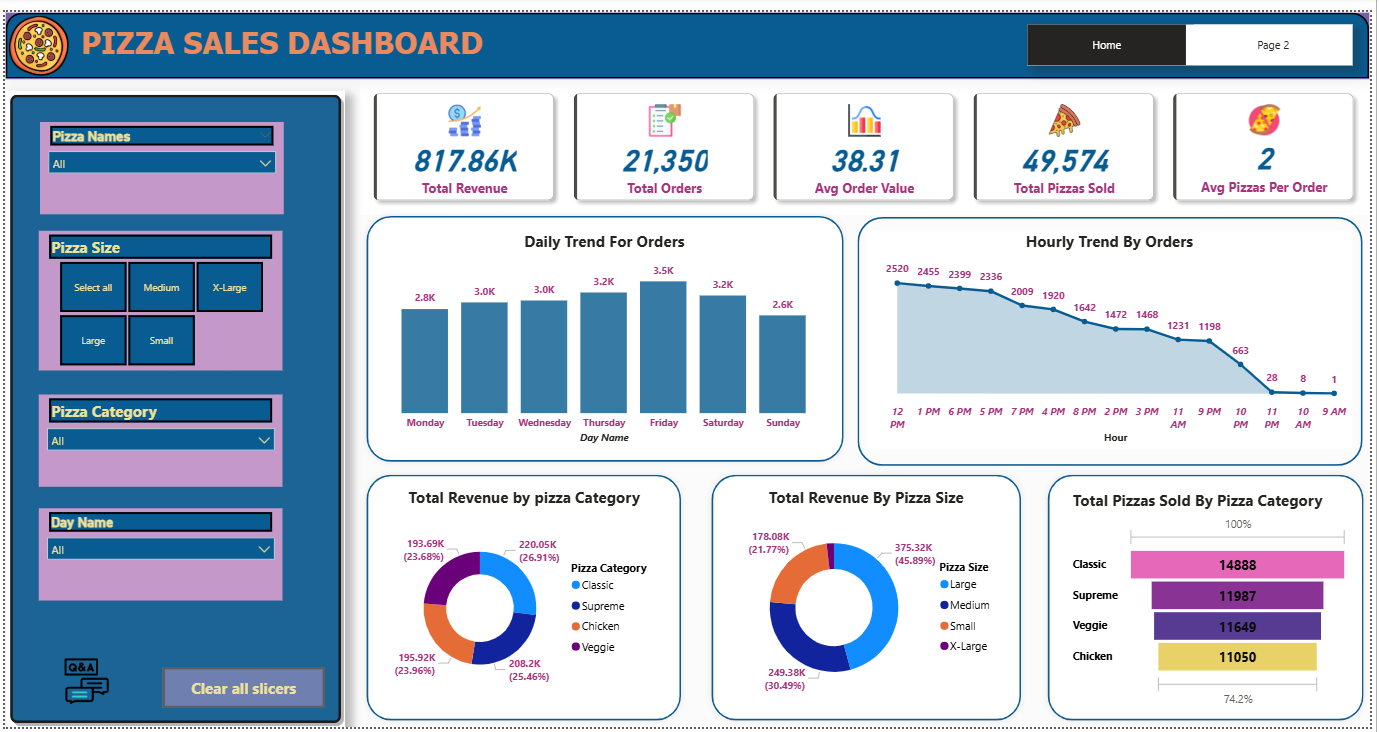

The dashboard page shown, as its layout file describes it:
{"tool":"powerbi","page":{"name":"Home","canvas":[1680,880],"ordinal":0},"visuals":[{"type":"cardVisual","fields":{"Data":["pizza pizza_orders.Total_Revenue","pizza pizza_orders.Total_Orders","pizza pizza_orders.Avg_Order_Value","pizza pizza_orders.Total_Pizzas_Sold","pizza pizza_orders.Avg_Pizzas_per_order"]},"box":[436.9,83.1,1243.1,166.2],"z":0},{"type":"shape","box":[0,0,1680,83.1],"z":1000},{"type":"textbox","box":[67.7,9.2,547.7,64.6],"z":2000},{"type":"shape","box":[436.9,243.1,603.1,318.5],"z":3000},{"type":"columnChart","title":"Daily Trend For Orders","fields":{"Category":["pizza pizza_orders.Day Name"],"Y":["pizza pizza_orders.Total_Orders"]},"box":[453.8,269.2,567.7,267.7],"z":4000},{"type":"shape","box":[1040,243.1,640,324.6],"z":5000},{"type":"areaChart","title":"Hourly Trend By Orders","fields":{"Category":["pizza pizza_orders.Hour"],"Y":["pizza pizza_orders.Total_Orders"]},"box":[1060,269.2,598.5,267.7],"z":6000},{"type":"shape","box":[436.9,561.5,403.1,318.5],"z":7000},{"type":"shape","box":[1275.4,561.5,404.6,318.5],"z":8000},{"type":"shape","box":[861.5,561.5,396.9,318.5],"z":9000},{"type":"donutChart","title":"Total Revenue by pizza Category","fields":{"Category":["pizza pizza_orders.pizza_category"],"Y":["pizza pizza_orders.Total_Revenue"]},"box":[467.7,584.6,343.1,273.8],"z":10000},{"type":"donutChart","title":"Total Revenue By Pizza Size","fields":{"Y":["pizza pizza_orders.Total_Revenue"],"Category":["pizza pizza_orders.pizza_size"]},"box":[886.2,584.6,347.7,272.3],"z":11000},{"type":"funnel","title":"Total Pizzas Sold By Pizza Category","fields":{"Category":["pizza pizza_orders.pizza_category"],"Y":["pizza pizza_orders.Total_Pizzas_Sold"]},"box":[1309.2,587.7,349.2,273.8],"z":12000},{"type":"shape","box":[1.5,96.9,416.9,783.1],"z":13000},{"type":"pageNavigator","box":[1258.5,15.4,400,50.8],"z":14000},{"type":"slicer","fields":{"Values":["pizza pizza_orders.pizza_name"]},"box":[43.1,135.4,300,113.8],"z":15000},{"type":"slicer","fields":{"Values":["pizza pizza_orders.pizza_size"]},"box":[41.5,269.2,300,172.3],"z":16000},{"type":"slicer","fields":{"Values":["pizza pizza_orders.pizza_category"]},"box":[41.5,470.8,300,113.8],"z":17000},{"type":"actionButton","box":[193.8,806.2,200,50.8],"z":18000},{"type":"slicer","fields":{"Values":["pizza pizza_orders.Day Name"]},"box":[41.5,610.8,300,113.8],"z":19000},{"type":"image","box":[0,0,83.1,83.1],"z":21000},{"type":"image","box":[67.7,790.8,66.2,66.2],"z":21001}]}

Visuals, with their boxes in screenshot pixels (x1, y1, x2, y2), scaled from the page's 1680x880 canvas onto the 1379x732 screenshot:
cardVisual - pizza pizza_orders.Total_Revenue x pizza pizza_orders.Total_Orders: bbox(359, 69, 1378, 207)
shape: bbox(0, 0, 1378, 69)
textbox: bbox(56, 8, 505, 61)
shape: bbox(359, 202, 854, 467)
"Daily Trend For Orders" columnChart: bbox(372, 224, 838, 447)
shape: bbox(854, 202, 1378, 472)
"Hourly Trend By Orders" areaChart: bbox(870, 224, 1361, 447)
shape: bbox(359, 467, 690, 731)
shape: bbox(1047, 467, 1378, 731)
shape: bbox(707, 467, 1033, 731)
"Total Revenue by pizza Category" donutChart: bbox(384, 486, 666, 714)
"Total Revenue By Pizza Size" donutChart: bbox(727, 486, 1013, 713)
"Total Pizzas Sold By Pizza Category" funnel: bbox(1075, 489, 1361, 717)
shape: bbox(1, 81, 343, 731)
pageNavigator: bbox(1033, 13, 1361, 55)
slicer - pizza pizza_orders.pizza_name: bbox(35, 113, 282, 207)
slicer - pizza pizza_orders.pizza_size: bbox(34, 224, 280, 367)
slicer - pizza pizza_orders.pizza_category: bbox(34, 392, 280, 486)
actionButton: bbox(159, 671, 323, 713)
slicer - pizza pizza_orders.Day Name: bbox(34, 508, 280, 603)
image: bbox(0, 0, 68, 69)
image: bbox(56, 658, 110, 713)
